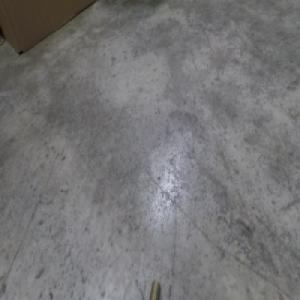Bolt: (150, 278, 160, 299)
